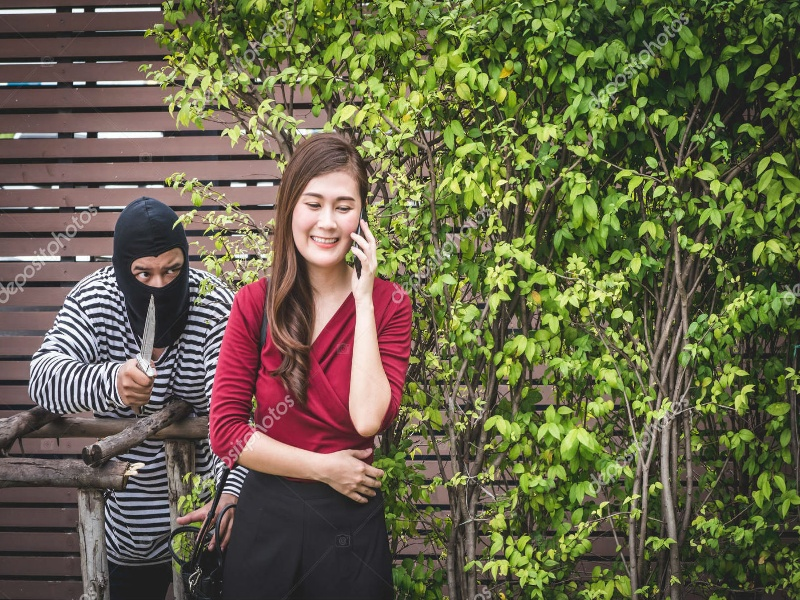balaclava: (113, 194, 189, 348)
hand: (319, 448, 390, 505), (115, 348, 156, 408), (349, 220, 378, 295)
knife: (136, 292, 157, 377)
person: (208, 137, 415, 600), (26, 196, 242, 600)
